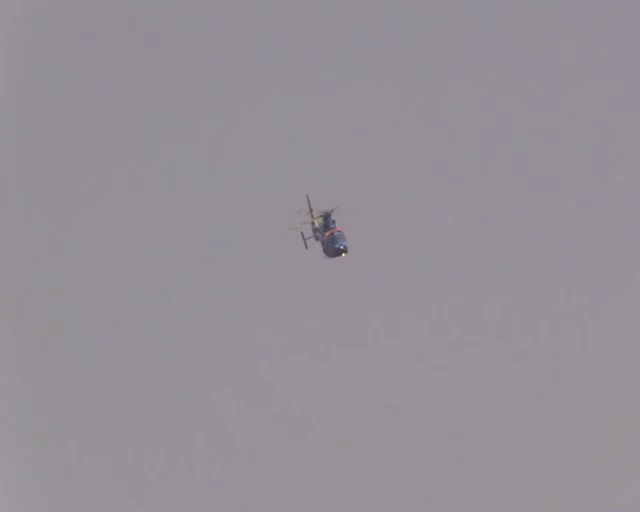HELICOPTER: (286, 193, 348, 259)
